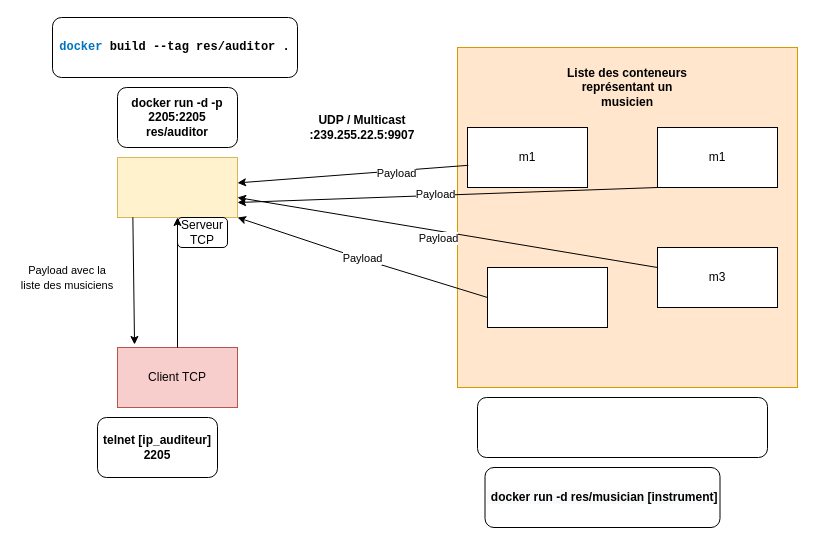
Image size: 815x551. Some labels were removed from this diagram. Here are the shapes that lost their labels. From the top down, the centre of each, then its label:
At pixel 177 187: "Auditeur".
At pixel 547 297: "m4".
At pixel 622 427: "docker build --tag res/musician .".
